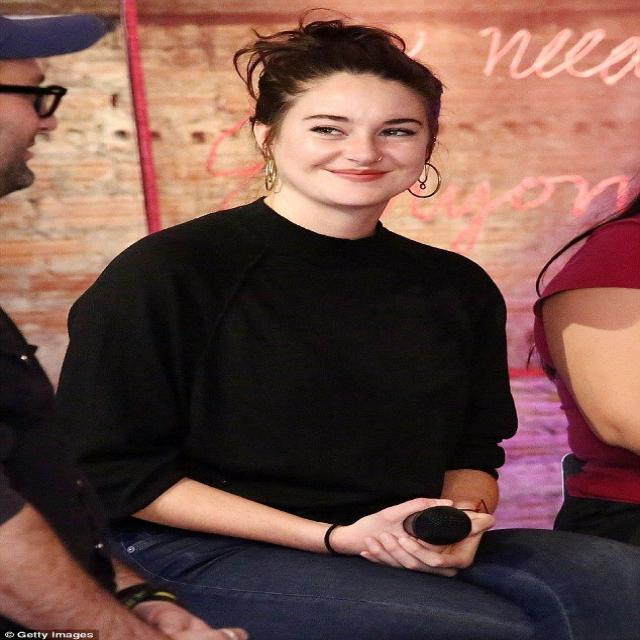Earring: (404, 160, 444, 207), (254, 148, 283, 198)
